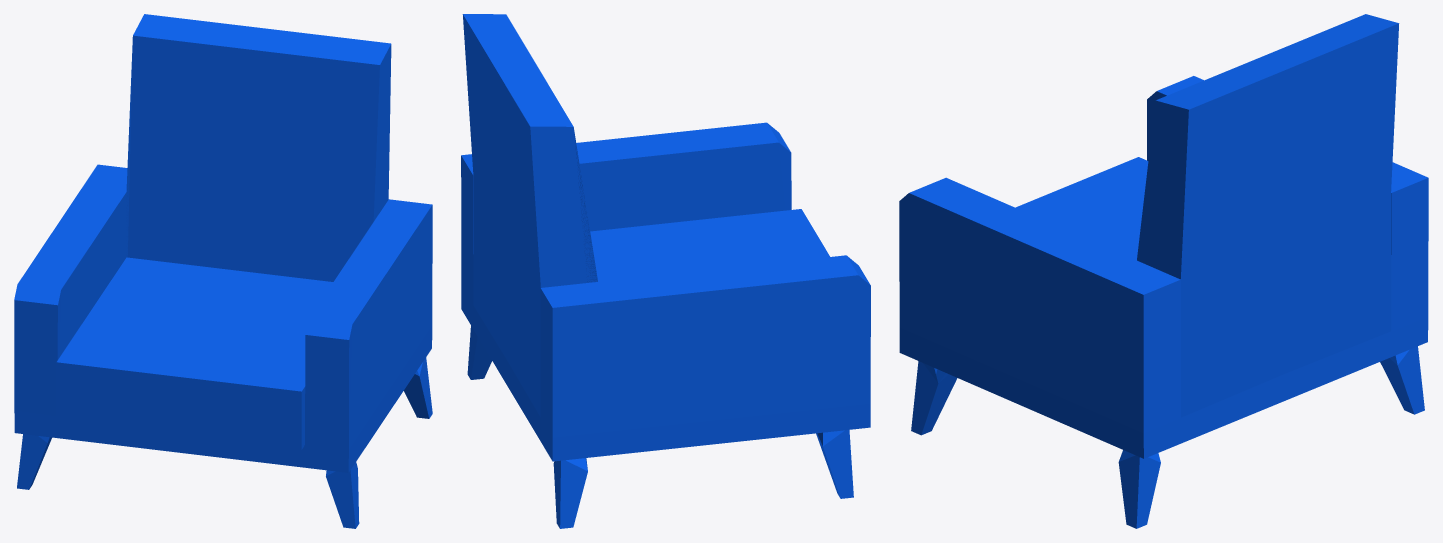
Rendered from smallSofa.fbx.
The picture shows the model from 3 angles, left to right: view 1: azimuth 30°, elevation 25°; view 2: azimuth 150°, elevation 25°; view 3: azimuth 270°, elevation 25°; orthographic projection. The views are drawn at different scales.
Parts seen in each view (by area): view 1: smallSofa; view 2: smallSofa; view 3: smallSofa.
Boxes of the visible parts, <box> form: smallSofa: <box>14,14,432,528</box>; smallSofa: <box>461,14,870,528</box>; smallSofa: <box>899,14,1428,528</box>.
Size of the model in its own units: 6.64 by 5.67 by 6.65.
